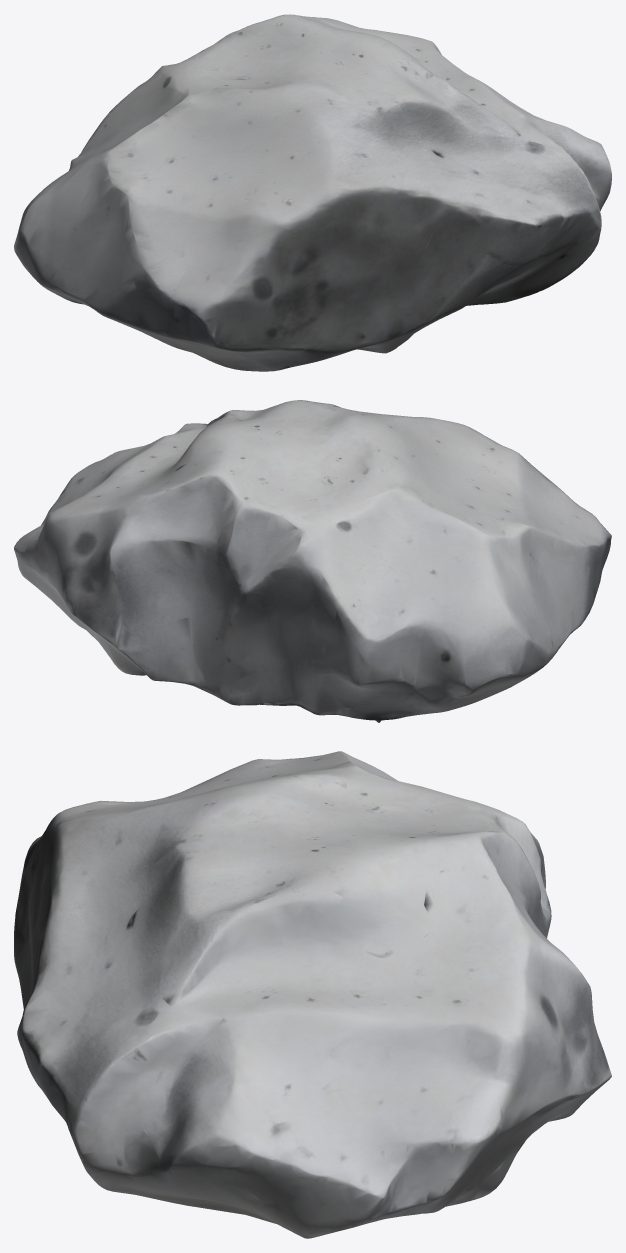
The model's file is stone_01.glb.
The picture shows the model from 3 angles, top to bottom: view 1: azimuth 30°, elevation 25°; view 2: azimuth 150°, elevation 25°; view 3: azimuth 270°, elevation 25°; orthographic projection. The views are drawn at different scales.
Size of the model in its own units: 2 by 0.8461 by 1.48.
Materials: 1 (1 with a texture image).
